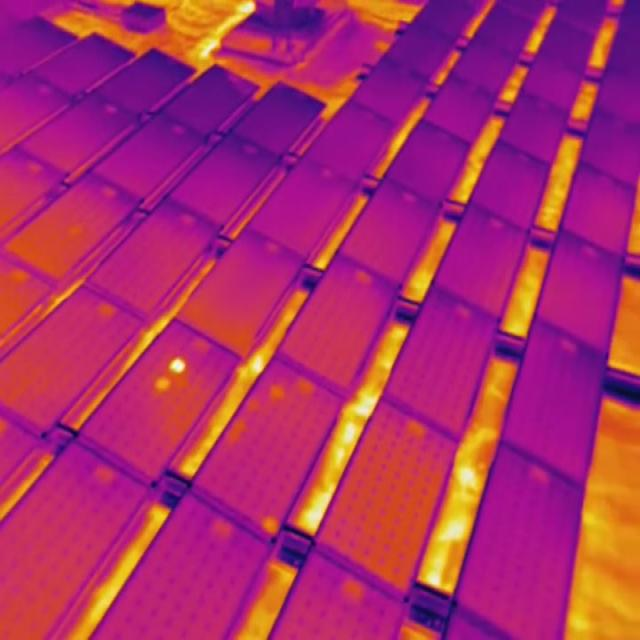Orange-Spots: (262, 516, 281, 536), (169, 357, 186, 375), (272, 384, 287, 403), (155, 376, 171, 393)
